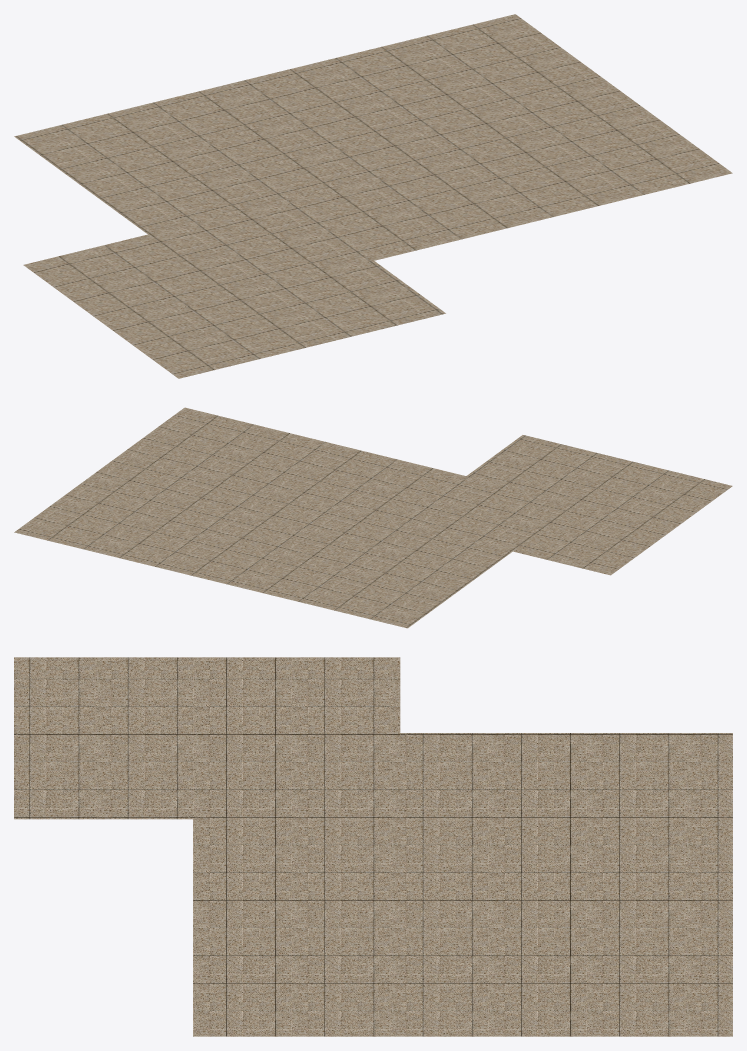
File: floor.glb
3 renders of one model, top to bottom at view 1: azimuth 30°, elevation 25°; view 2: azimuth 150°, elevation 25°; view 3: azimuth 270°, elevation 25°, orthographic. The views are drawn at different scales.
Parts seen in each view (by area): view 1: Plane; view 2: Plane; view 3: Plane.
Boxes of the visible parts, <box> form: Plane: <box>14,14,732,378</box>; Plane: <box>14,407,732,628</box>; Plane: <box>14,657,732,1036</box>.
Bounding box in the file's own units: 7.63 × 0 × 6.11.
1 material, 1 textured.
